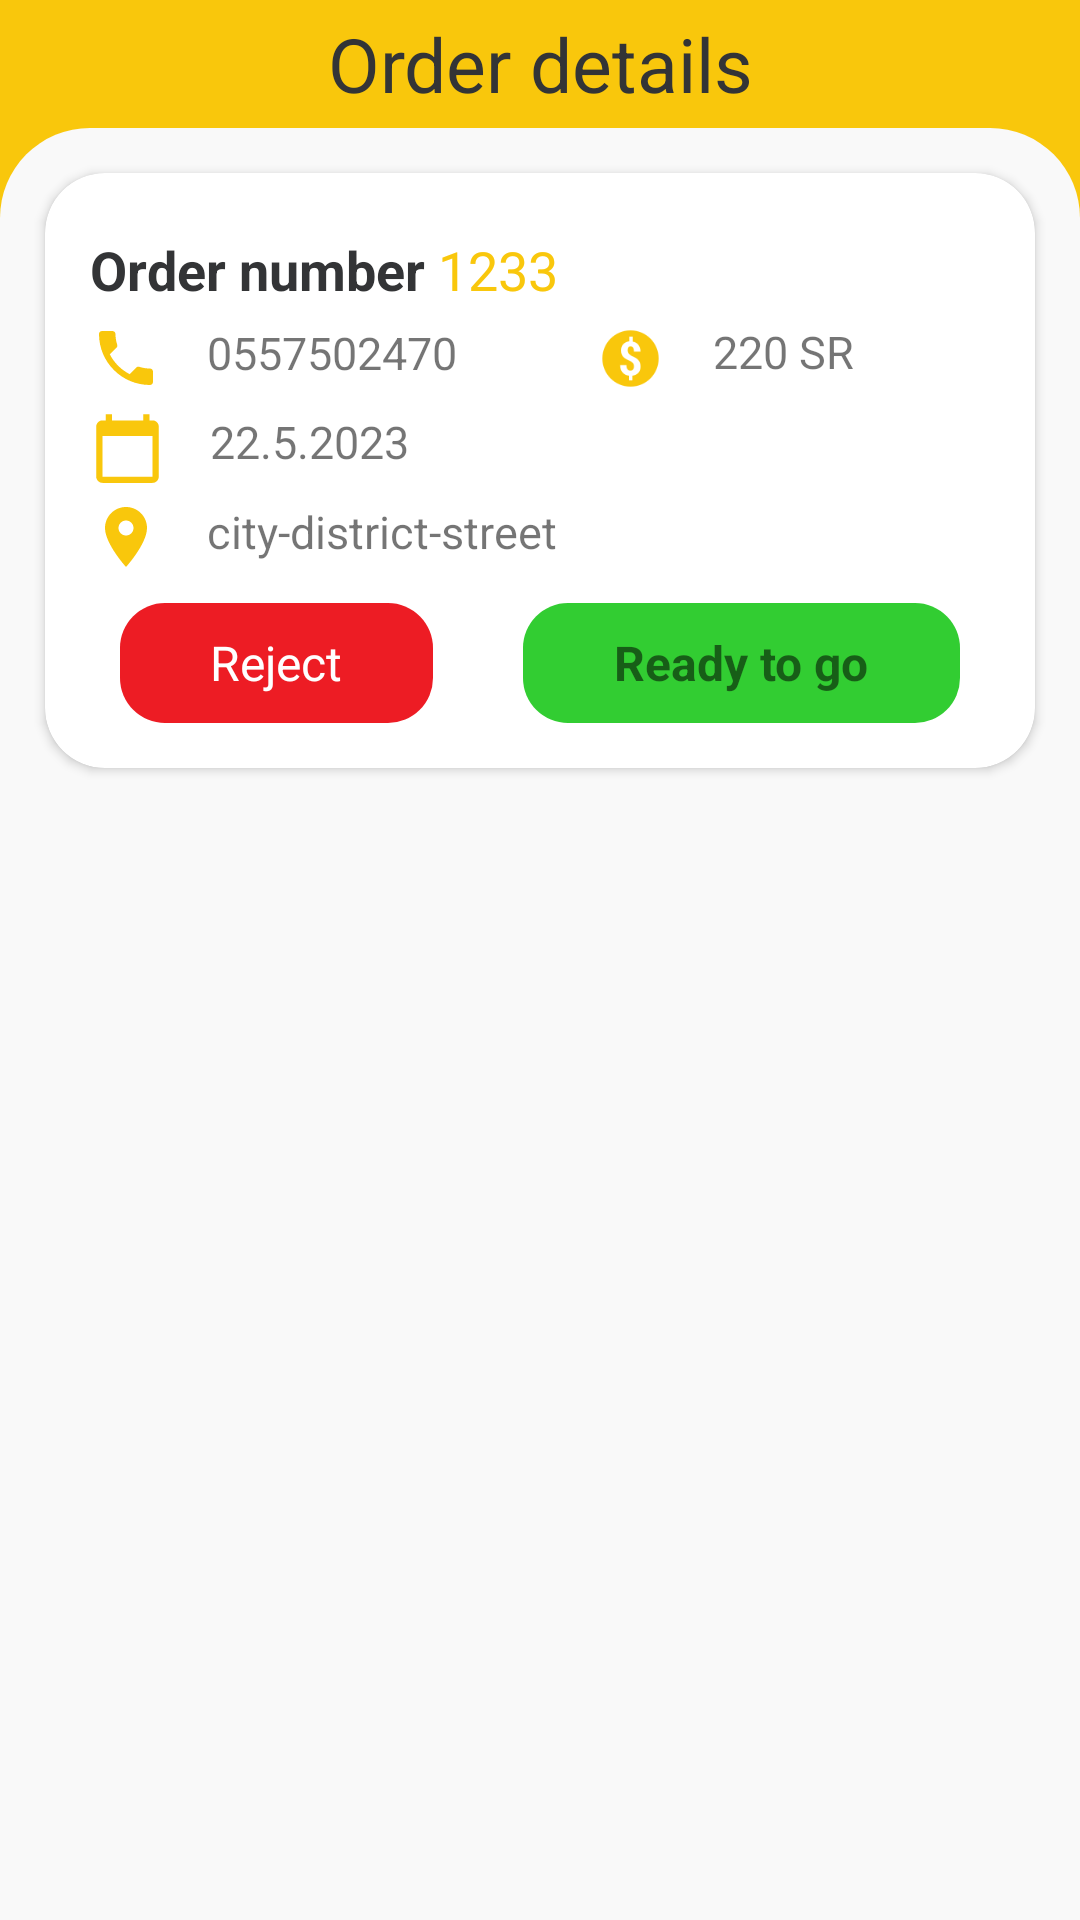

Where icons sit on this 1080 x 1920 app screen, as (x1, y1, x2, y2):
calendar: (96, 414, 159, 483)
coin: (602, 330, 659, 387)
location: (105, 507, 147, 567)
phone: (99, 331, 153, 385)
